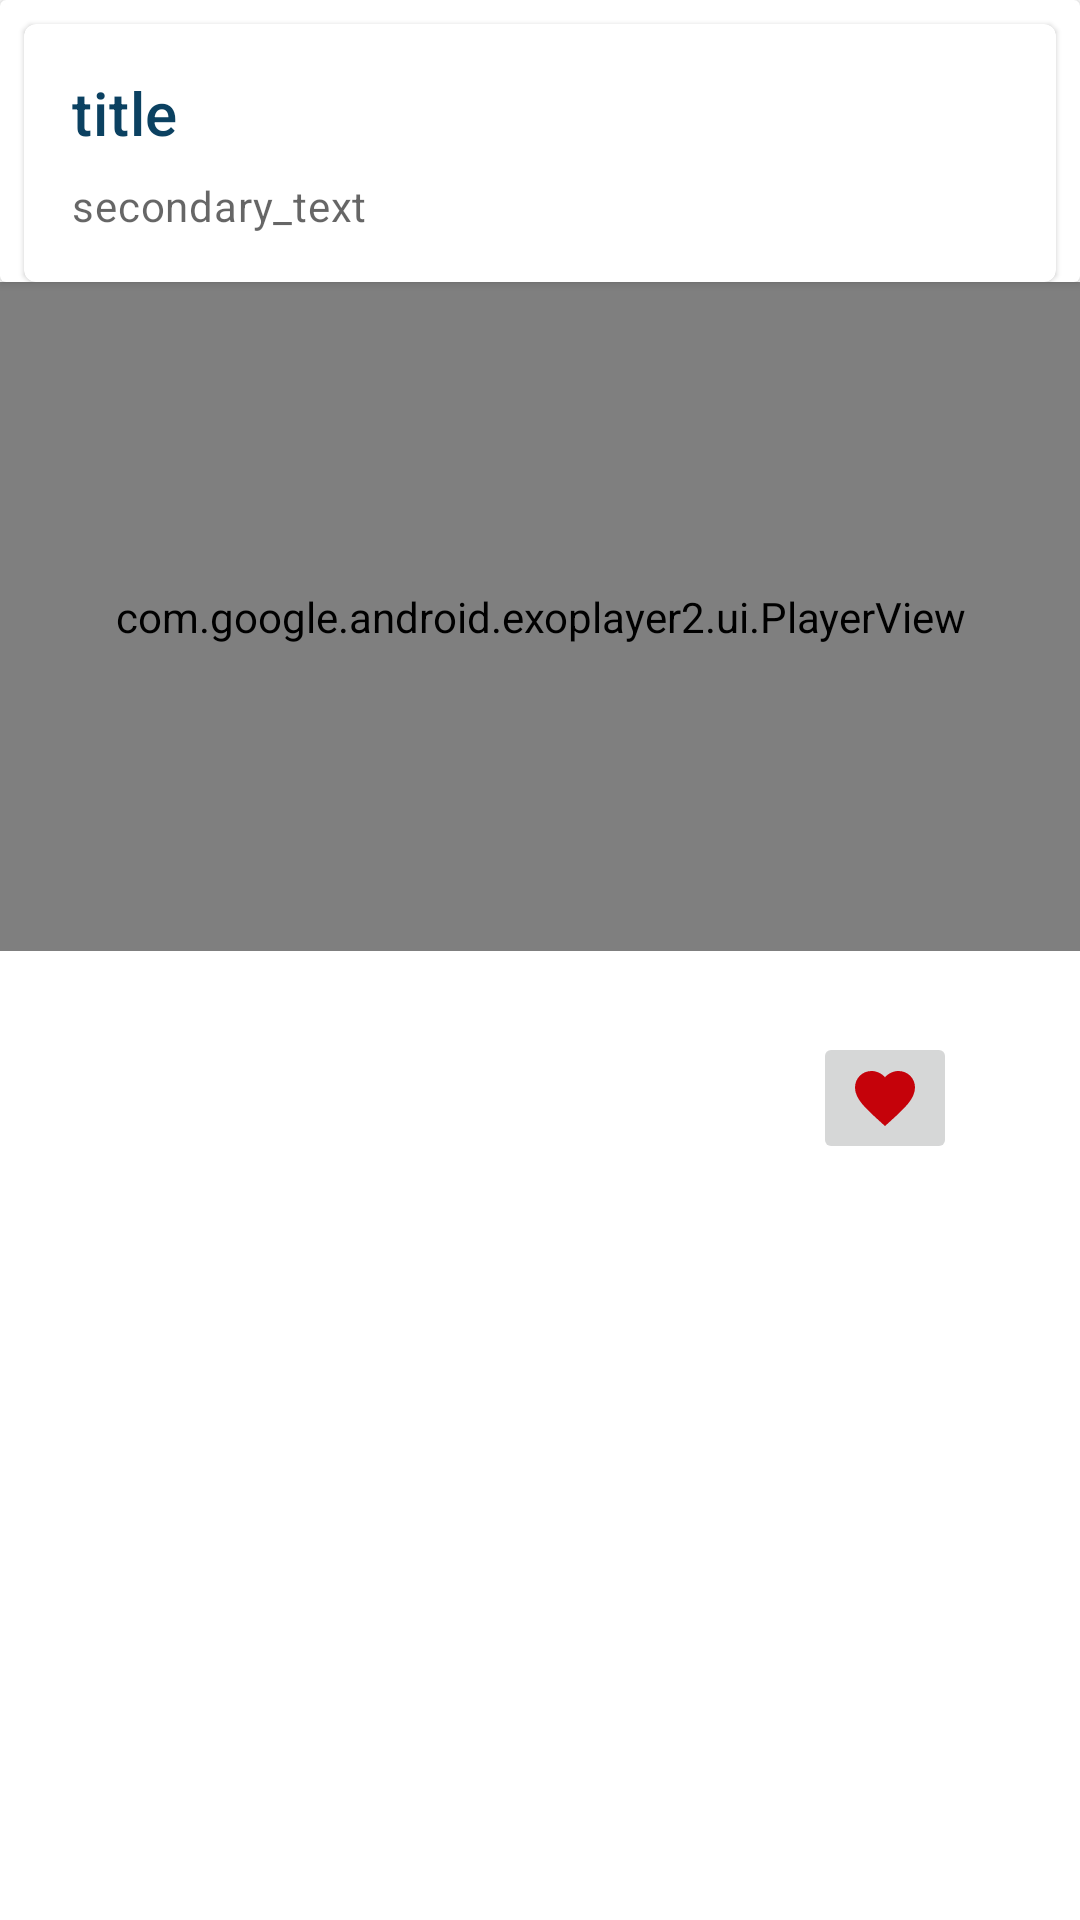

Where to tap for icons on this 1080px x 1920px app screen, as (x,y):
favorite: (885,1098)
